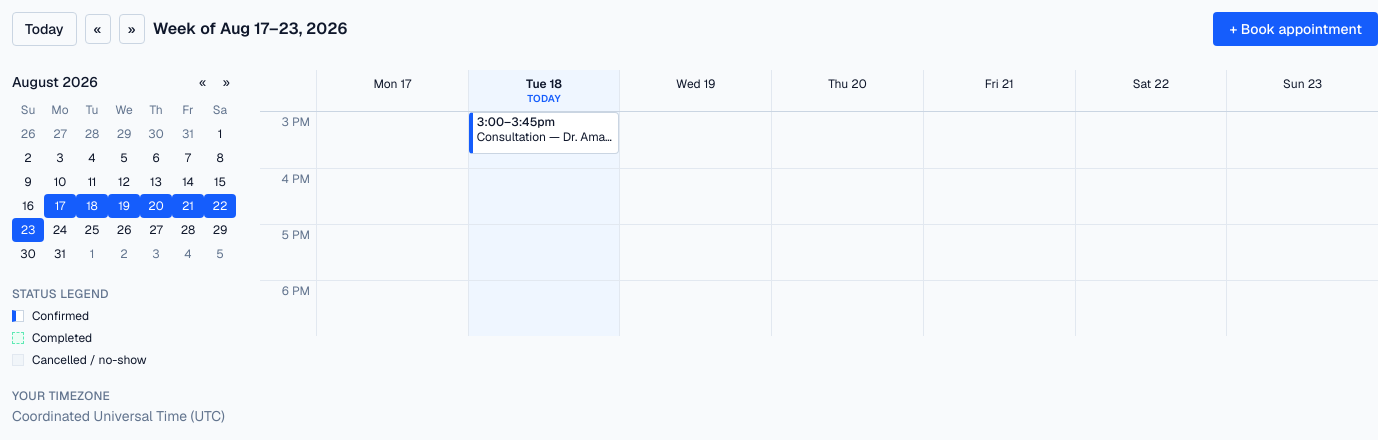
Test: PatientCalendar › jumps the grid to a day's week from the mini month, still without re-fetching
Expected: the text "Week of Aug 17–23, 2026" is shown, [153,17,347,41]
Click the button named "Wednesday, August 26, 2026".
click(124, 230)  # box [108,218,140,242]
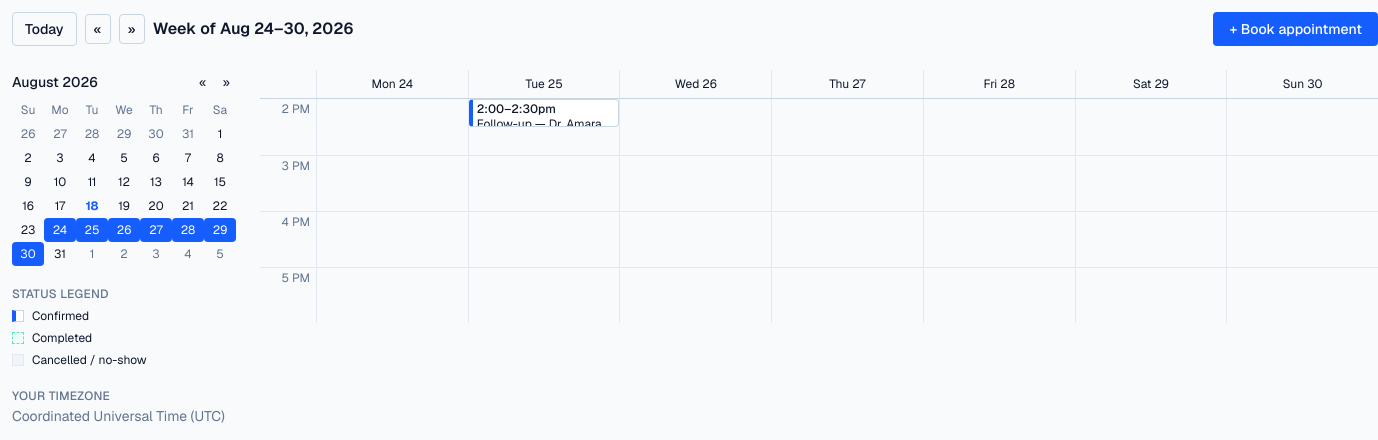
Now the text "Week of Aug 24–30, 2026" is shown, box [153,17,353,41]
Now the text "Follow-up — Dr. Amara Rossi" is shown, box [477,117,614,127]
